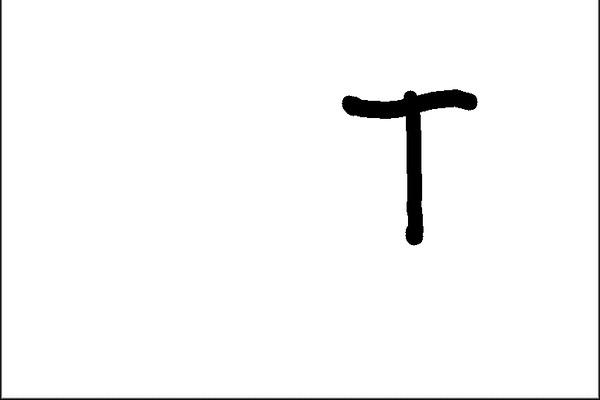T: (337, 83, 489, 250)
